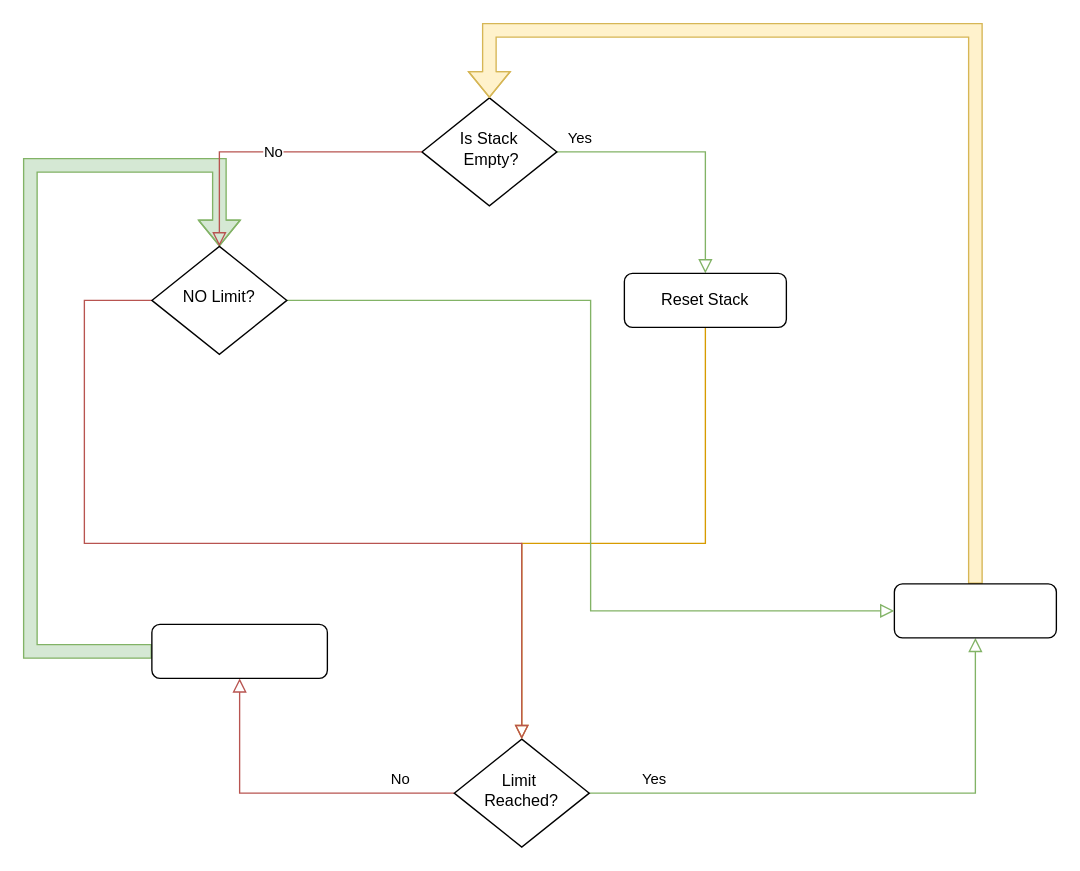
Some shapes in this 1080 by 871 pixel diagram are drawn without their labels. Here are the shapes that lost their labels. From the top down, the centre of each, then its label:
At point 974,610: "Pop new dir".
At point 239,650: "Advance in current direction".
